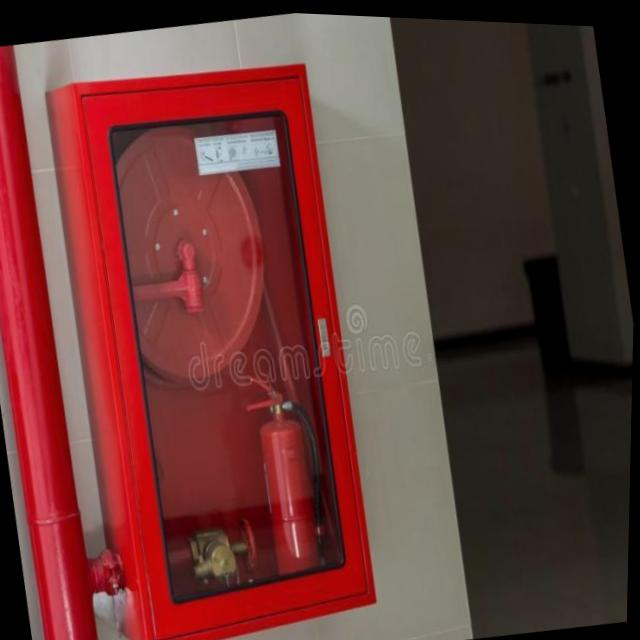FireExtinguisher: (233, 353, 349, 606)
